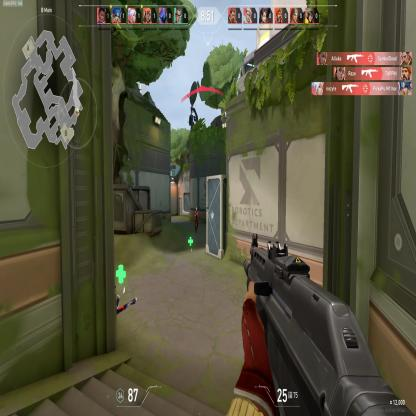enemy: (194, 205, 198, 234)
